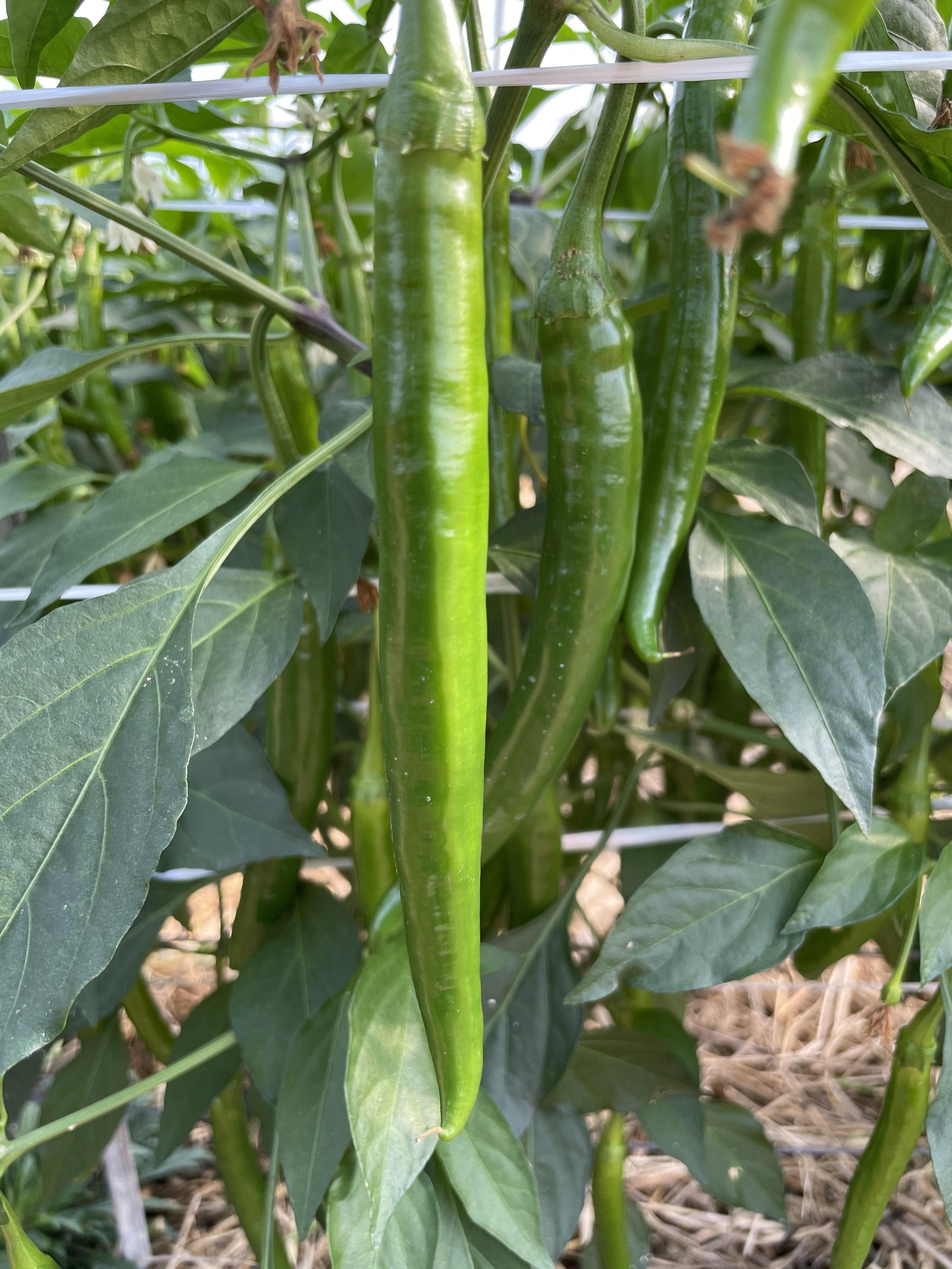Buah Cabai Sehat: (366, 2, 492, 1143), (488, 247, 650, 874)
Daun Cabai Sehat: (0, 558, 205, 1097), (686, 501, 893, 851)
